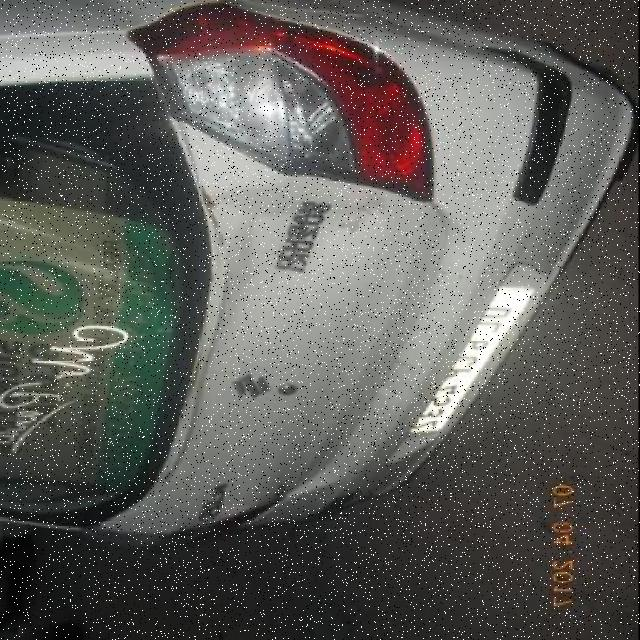damage: (163, 120, 232, 489), (219, 185, 388, 303)
